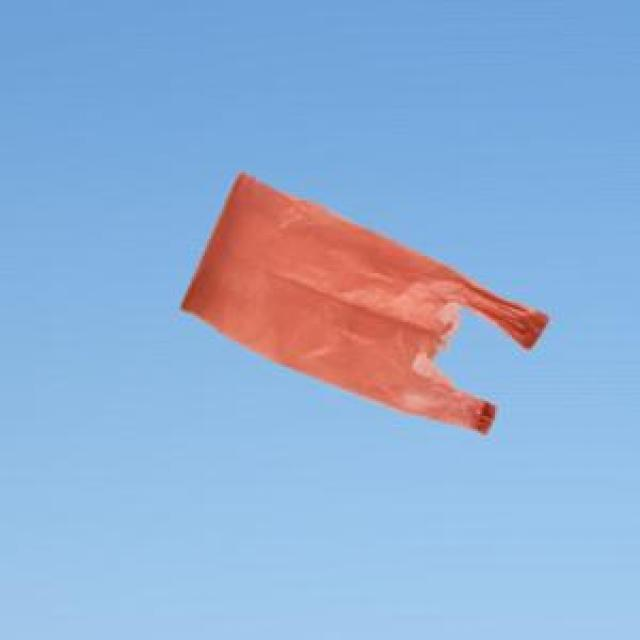waste: (190, 172, 546, 446)
